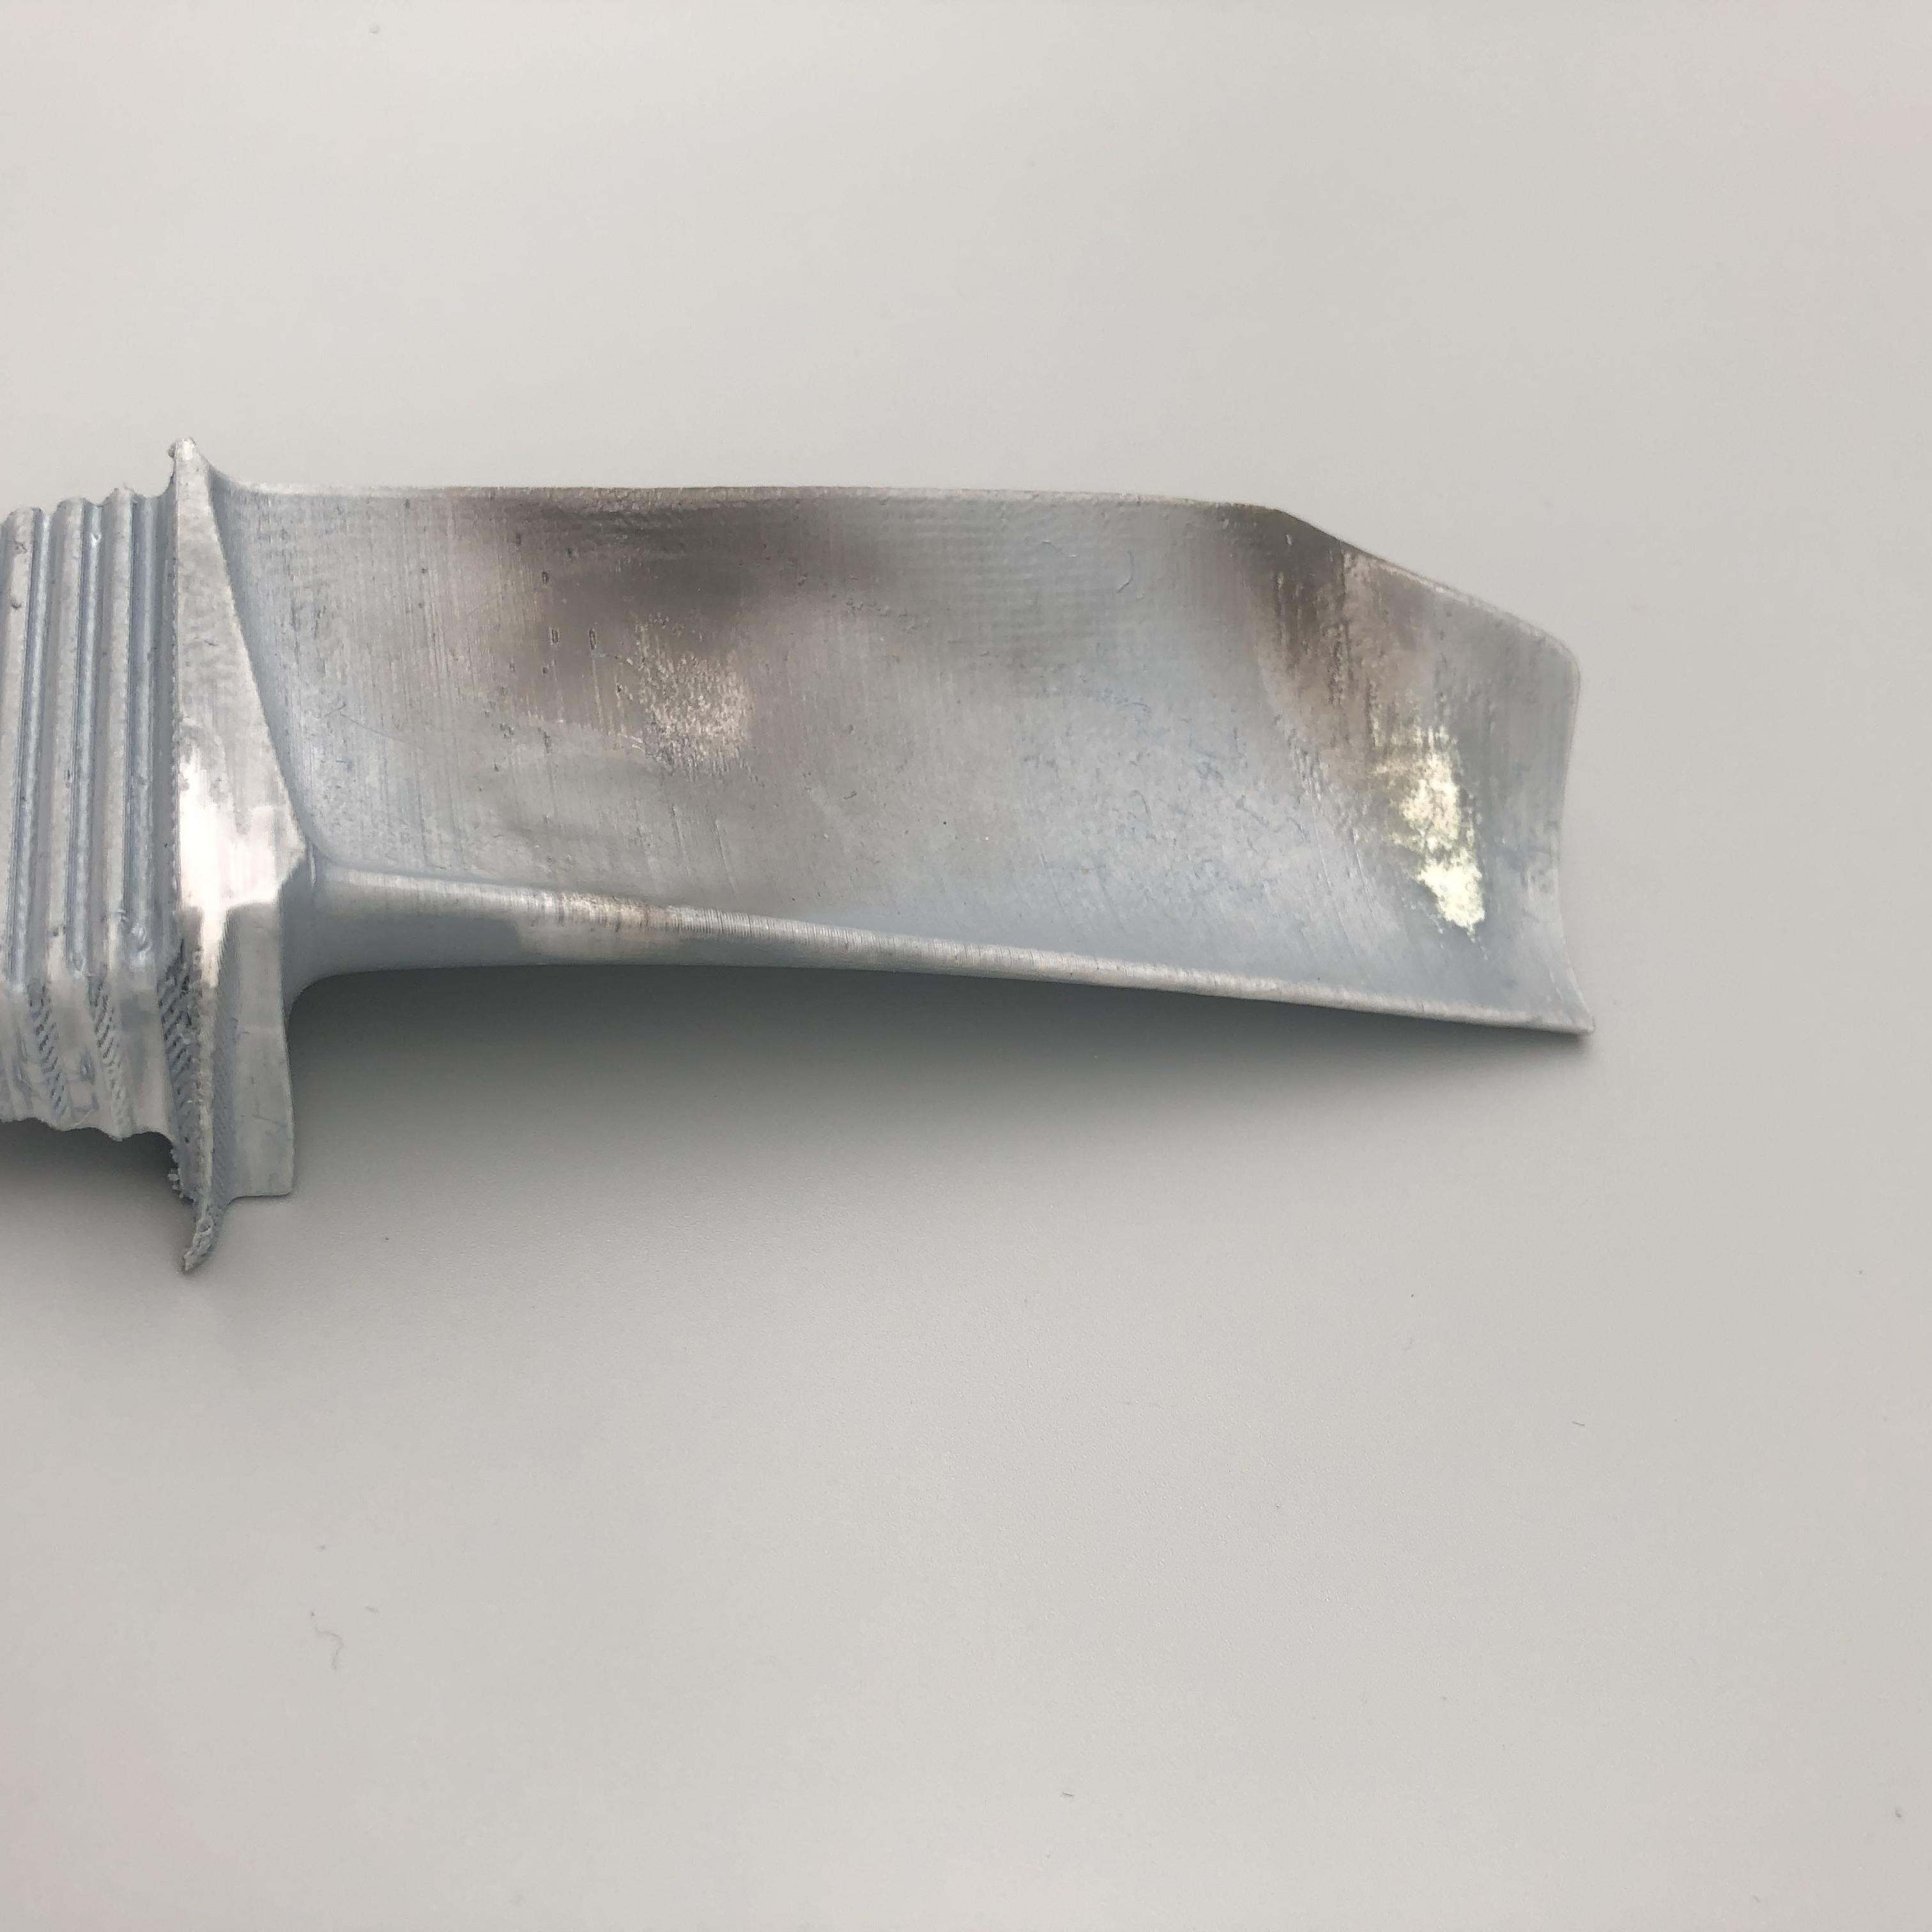ablation: (522, 506, 851, 858), (1272, 527, 1490, 913)
